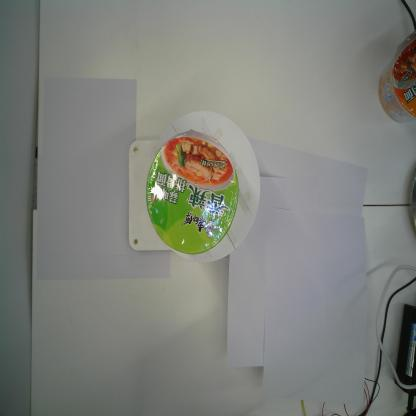Instant Noodles: (144, 129, 241, 255)
